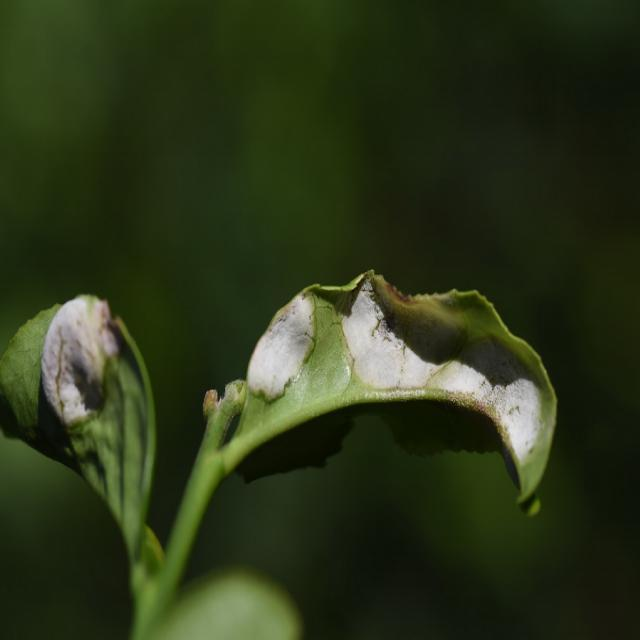Tea cake: (343, 255, 565, 445), (240, 278, 322, 384), (45, 303, 117, 417)
